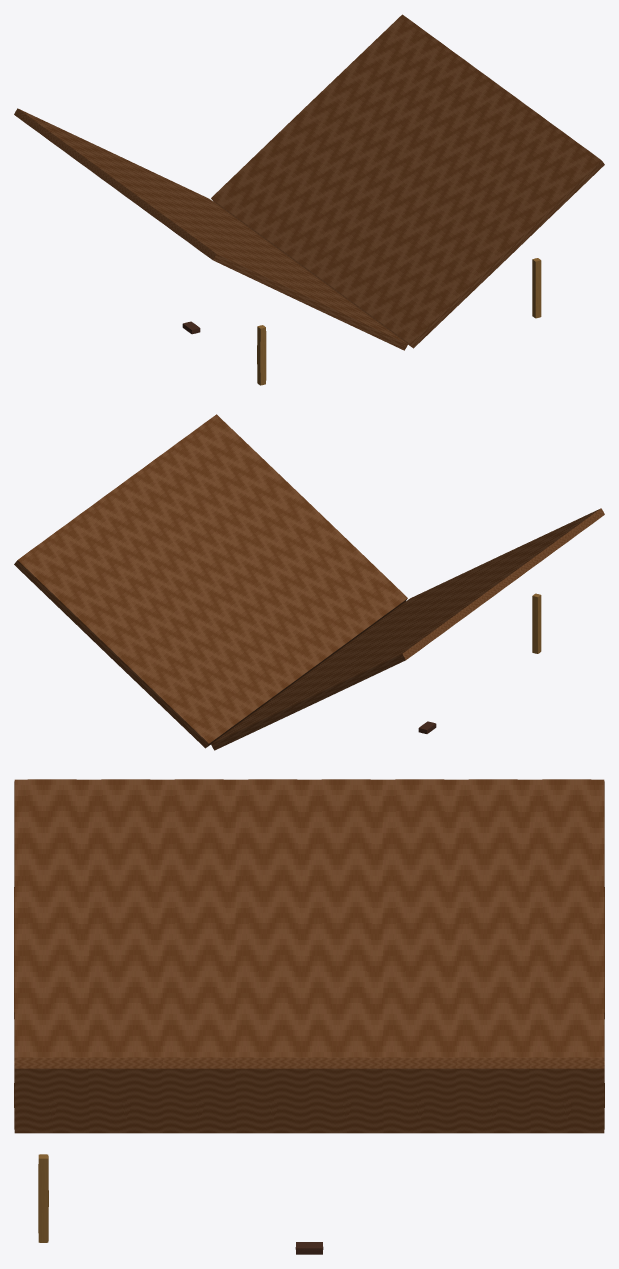
The picture shows the model from 3 angles, top to bottom: view 1: azimuth 30°, elevation 25°; view 2: azimuth 150°, elevation 25°; view 3: azimuth 270°, elevation 25°; orthographic projection. The views are drawn at different scales.
Parts seen in each view (by area): view 1: wood.15, wood.8, wood.12, wood.11, wood.10, wood.9, wood.13, wood.14, wood.7, wood.0, wood.3, wood.1 (+6 smaller); view 2: wood.8, wood.15, wood.9, wood.10, wood.12, wood.11, wood.14, wood.13, wood.0, wood.7, wood.2, wood.1 (+5 smaller); view 3: wood.0, wood.7, wood.1, wood.2, wood.3, wood.4, wood.5, wood.6, wood.8, wood.15, wood.14, wood.10 (+5 smaller).
Boxes of the visible parts, bbox=[...] form: wood.15: bbox=[385, 142, 604, 348]; wood.8: bbox=[211, 14, 426, 219]; wood.12: bbox=[310, 87, 526, 292]; wood.11: bbox=[286, 69, 501, 274]; wood.10: bbox=[261, 51, 476, 255]; wood.9: bbox=[236, 33, 451, 237]; wood.13: bbox=[335, 105, 550, 310]; wood.14: bbox=[360, 123, 575, 328]; wood.7: bbox=[188, 236, 407, 350]; wood.0: bbox=[14, 108, 233, 216]; wood.3: bbox=[88, 163, 307, 270]; wood.1: bbox=[39, 127, 257, 234]; wood.8: bbox=[14, 541, 233, 748]; wood.15: bbox=[191, 414, 407, 619]; wood.9: bbox=[43, 523, 258, 728]; wood.10: bbox=[68, 505, 283, 710]; wood.12: bbox=[117, 469, 332, 674]; wood.11: bbox=[92, 487, 308, 692]; wood.14: bbox=[167, 433, 382, 637]; wood.13: bbox=[142, 451, 357, 655]; wood.0: bbox=[211, 635, 430, 750]; wood.7: bbox=[385, 508, 604, 616]; wood.2: bbox=[261, 599, 480, 707]; wood.1: bbox=[237, 617, 455, 725]; wood.0: bbox=[529, 779, 604, 1060]; wood.7: bbox=[14, 779, 89, 1060]; wood.1: bbox=[456, 779, 530, 1057]; wood.2: bbox=[382, 779, 456, 1057]; wood.3: bbox=[309, 779, 383, 1057]; wood.4: bbox=[235, 779, 309, 1057]; wood.5: bbox=[162, 779, 236, 1057]; wood.6: bbox=[88, 779, 162, 1057]; wood.8: bbox=[529, 1057, 604, 1133]; wood.15: bbox=[14, 1057, 89, 1133]; wood.14: bbox=[88, 1057, 162, 1133]; wood.10: bbox=[382, 1057, 456, 1133].
Size of the model in its own units: 2.19 by 0.8941 by 1.93.
3 materials, 3 textured.
